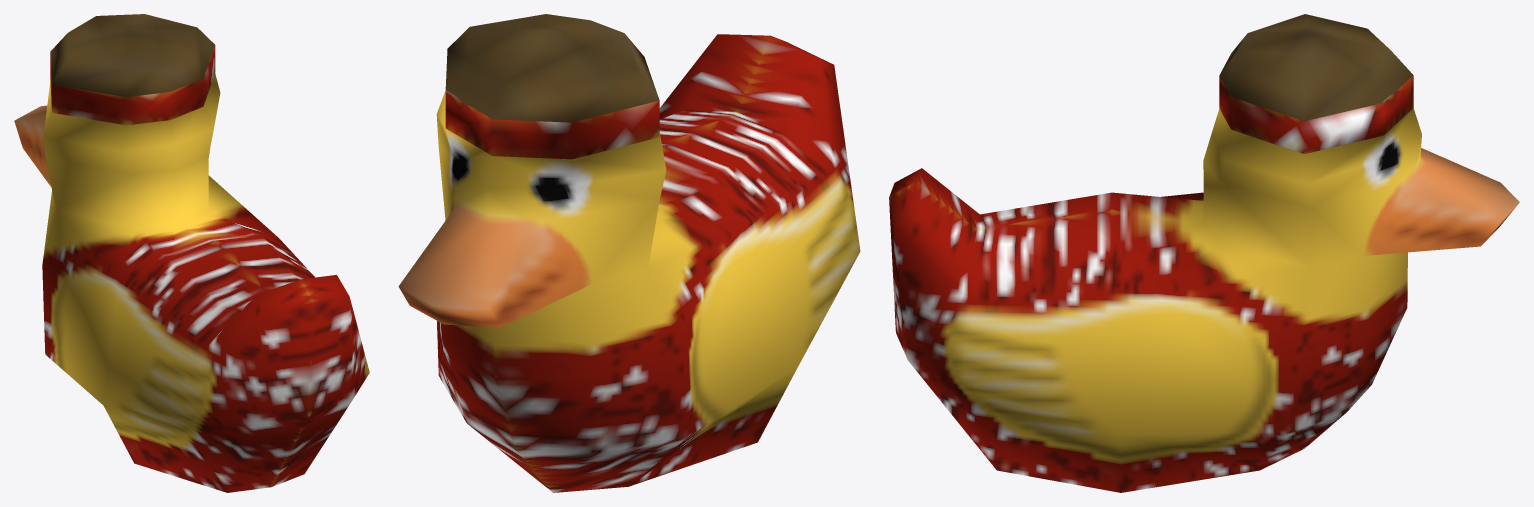
The model's file is duck_shyguy.fbx.
3 renders of one model, left to right at view 1: azimuth 30°, elevation 25°; view 2: azimuth 150°, elevation 25°; view 3: azimuth 270°, elevation 25°, orthographic. The views are drawn at different scales.
Parts seen in each view (by area): view 1: shyguy; view 2: shyguy; view 3: shyguy.
Boxes of the visible parts, bbox=[...] form: shyguy: bbox=[14, 14, 369, 492]; shyguy: bbox=[398, 14, 860, 492]; shyguy: bbox=[889, 14, 1519, 492].
Bounding box in the file's own units: 0.1099 × 0.1721 × 0.2373.
